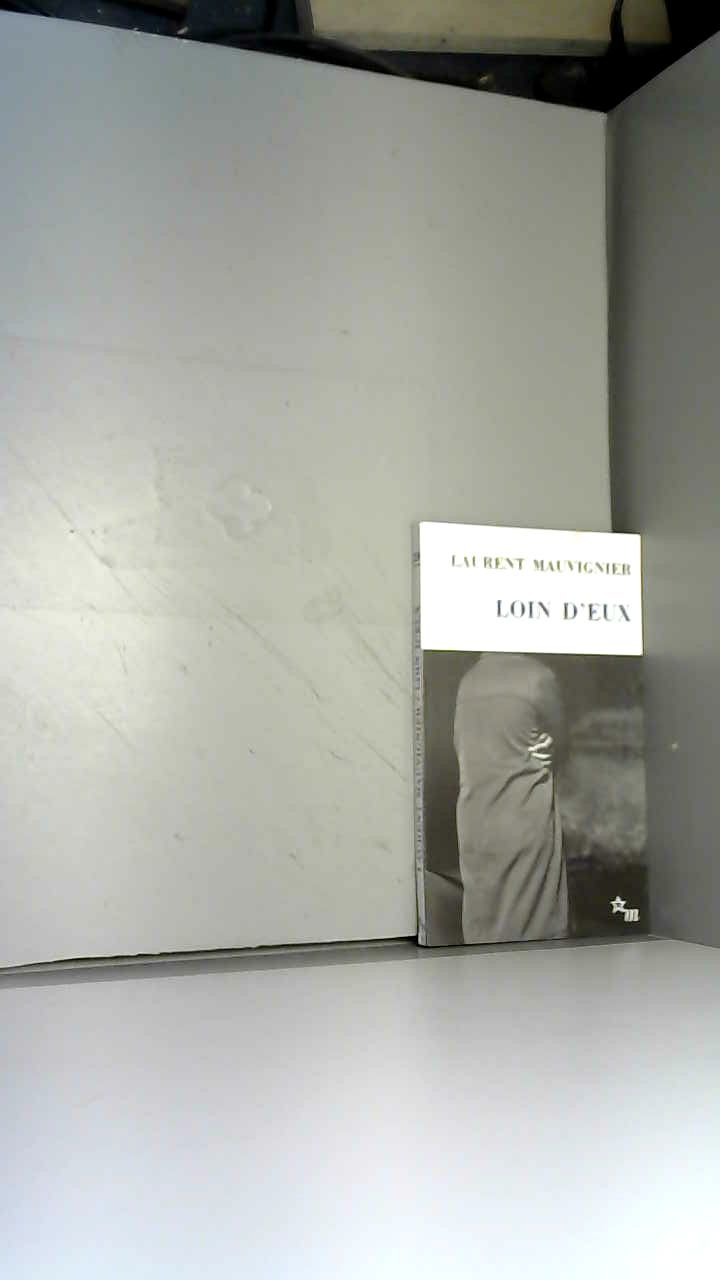book: (374, 477, 689, 978)
